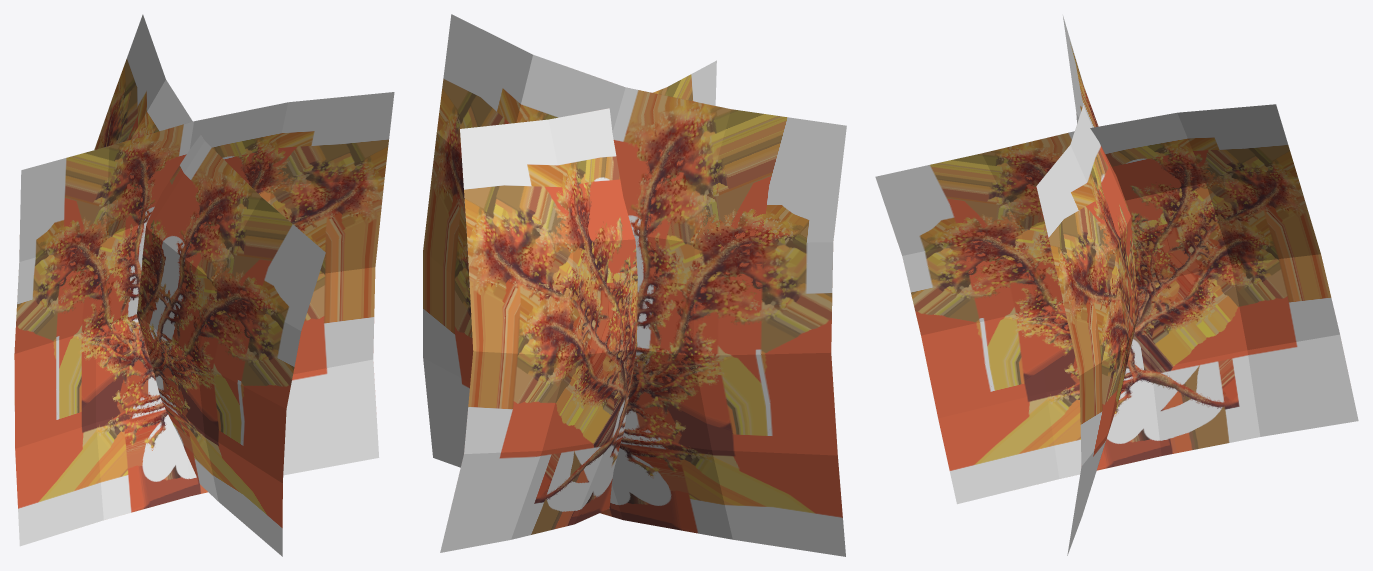
Rendered from soft coral.fbx.
3 views of the same model, side by side, from view 1: azimuth 30°, elevation 25°; view 2: azimuth 150°, elevation 25°; view 3: azimuth 270°, elevation 25° (orthographic). The views are drawn at different scales.
Visible parts, largest first — view 1: Plane.005; view 2: Plane.005; view 3: Plane.005.
Boxes of the visible parts, <box> form: Plane.005: <box>14,14,394,556</box>; Plane.005: <box>423,14,846,556</box>; Plane.005: <box>875,16,1358,555</box>.
Size of the model in its own units: 166 by 183 by 195.
Materials: 1 (1 with a texture image).
